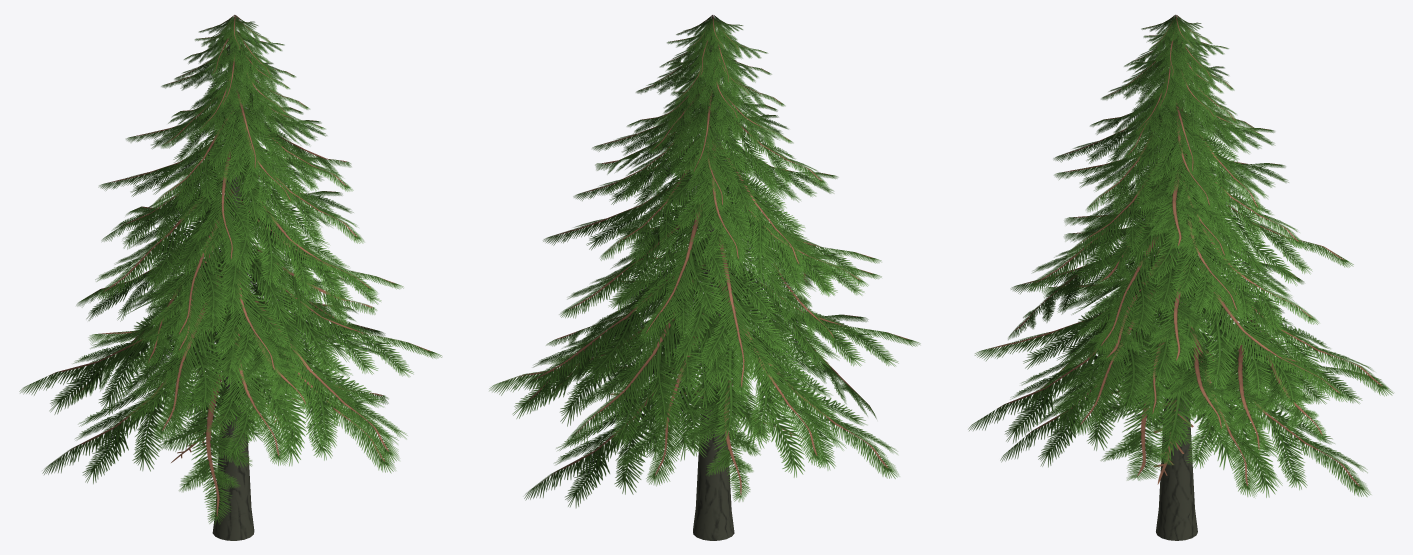
The picture shows the model from 3 angles, left to right: view 1: azimuth 30°, elevation 25°; view 2: azimuth 150°, elevation 25°; view 3: azimuth 270°, elevation 25°; orthographic projection.
Visible parts, largest first — view 1: Branches, Trunk; view 2: Branches, Trunk; view 3: Branches, Trunk.
Boxes of the visible parts, bbox=[...] form: Branches: bbox=[19, 15, 442, 524]; Trunk: bbox=[212, 31, 254, 540]; Branches: bbox=[489, 15, 920, 507]; Trunk: bbox=[693, 45, 734, 540]; Branches: bbox=[968, 14, 1393, 497]; Trunk: bbox=[1156, 45, 1197, 540].
Size of the model in its own units: 58.35 by 75 by 57.27.
Materials: 2 (2 with a texture image).
